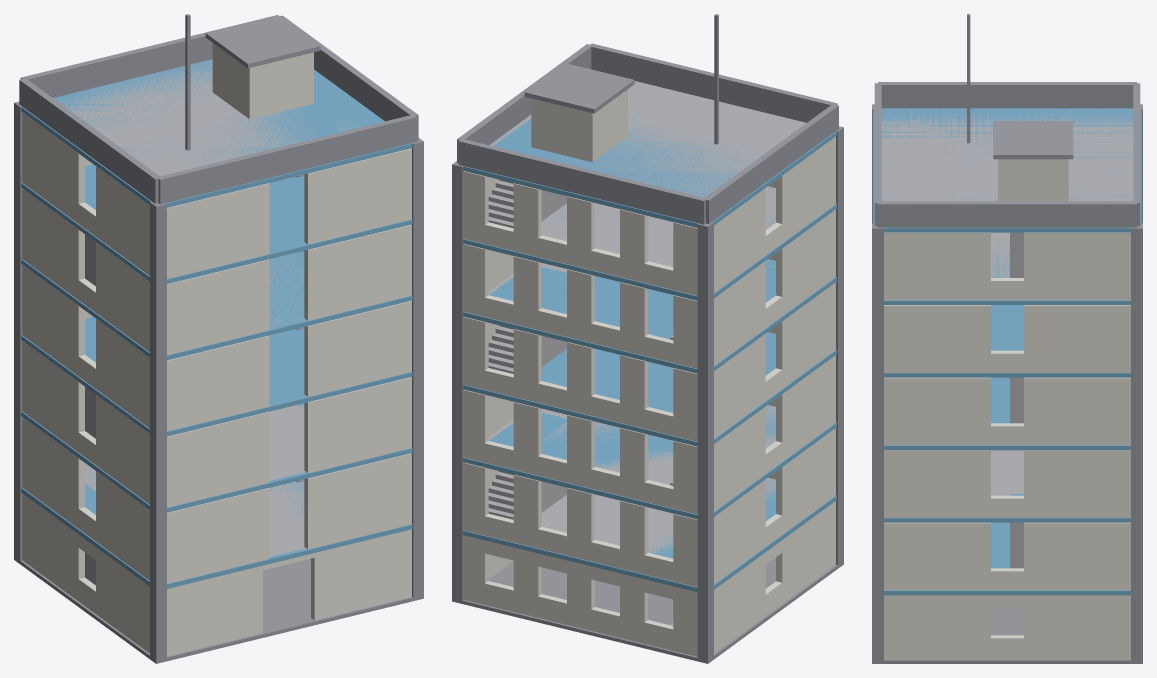
Rendered from highrise_a.glb.
3 views of the same model, side by side, from view 1: azimuth 30°, elevation 25°; view 2: azimuth 150°, elevation 25°; view 3: azimuth 270°, elevation 25° (orthographic). The views are drawn at different scales.
Visible parts, largest first — view 1: highrise_a; view 2: highrise_a; view 3: highrise_a.
Boxes of the visible parts, box(x1,y1,x2,y2) form: highrise_a: box(14, 14, 423, 663); highrise_a: box(452, 14, 843, 663); highrise_a: box(872, 14, 1142, 663).
Size of the model in its own units: 12.5 by 26.4 by 11.5.
